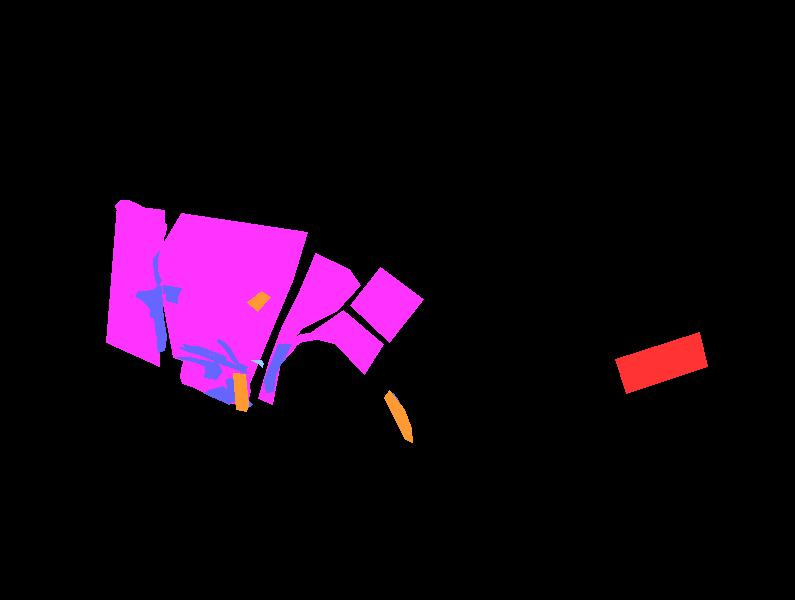Corrosion: (251, 360, 263, 367)
Dent: (162, 213, 307, 384), (258, 253, 360, 404), (106, 204, 164, 366), (350, 267, 423, 342), (305, 310, 383, 374), (180, 354, 250, 404), (115, 200, 166, 245), (272, 333, 317, 360)
Missing part: (615, 332, 707, 393)
Paint chip: (384, 390, 412, 442), (233, 373, 248, 411), (247, 291, 270, 311)
Scratch: (136, 286, 166, 352), (179, 347, 246, 373), (264, 344, 291, 392), (387, 391, 411, 434), (268, 346, 292, 389), (217, 339, 247, 368), (176, 357, 217, 377), (183, 344, 226, 359), (235, 373, 252, 407), (204, 386, 232, 404), (204, 361, 222, 379), (153, 251, 161, 285), (226, 377, 237, 401), (163, 285, 181, 295), (166, 294, 177, 303)
